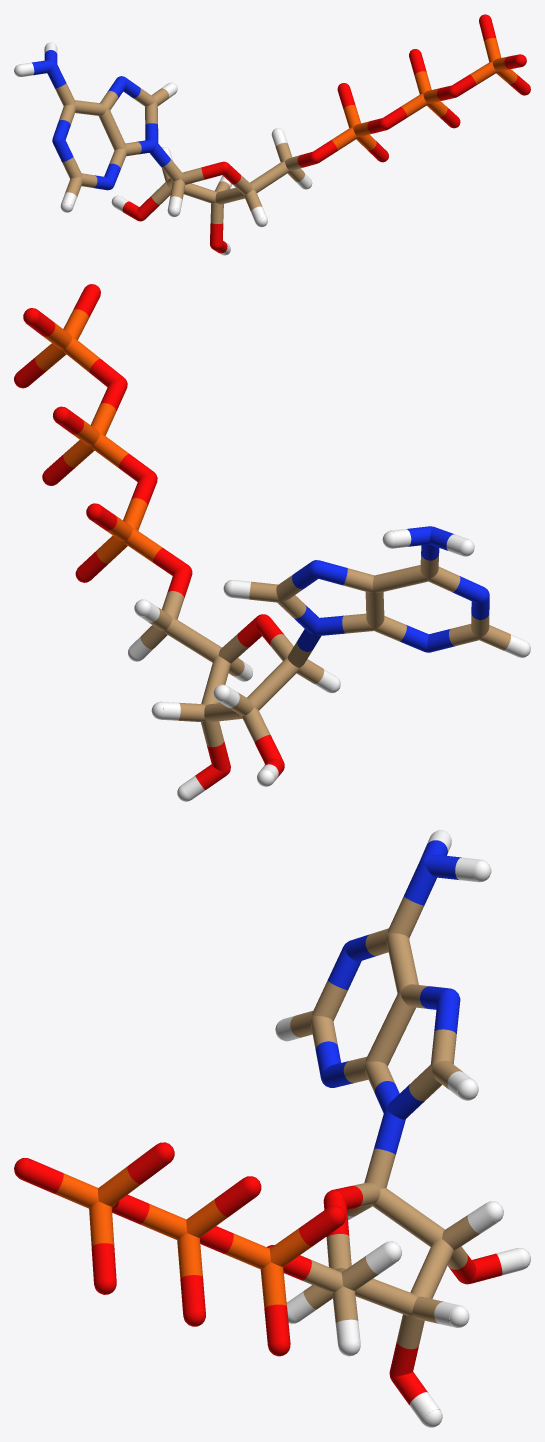
Rendered from atp.fbx.
The picture shows the model from 3 angles, top to bottom: view 1: azimuth 30°, elevation 25°; view 2: azimuth 150°, elevation 25°; view 3: azimuth 270°, elevation 25°; orthographic projection. The views are drawn at different scales.
Visible parts, largest first — view 1: subnode_125; view 2: subnode_125; view 3: subnode_125.
Part boxes in pixels (x1=…): subnode_125: x1=14, y1=14, x2=530, y2=255; subnode_125: x1=14, y1=284, x2=530, y2=801; subnode_125: x1=14, y1=830, x2=530, y2=1427.
Bounding box in the file's own units: 15.1 × 8.57 × 9.06.
